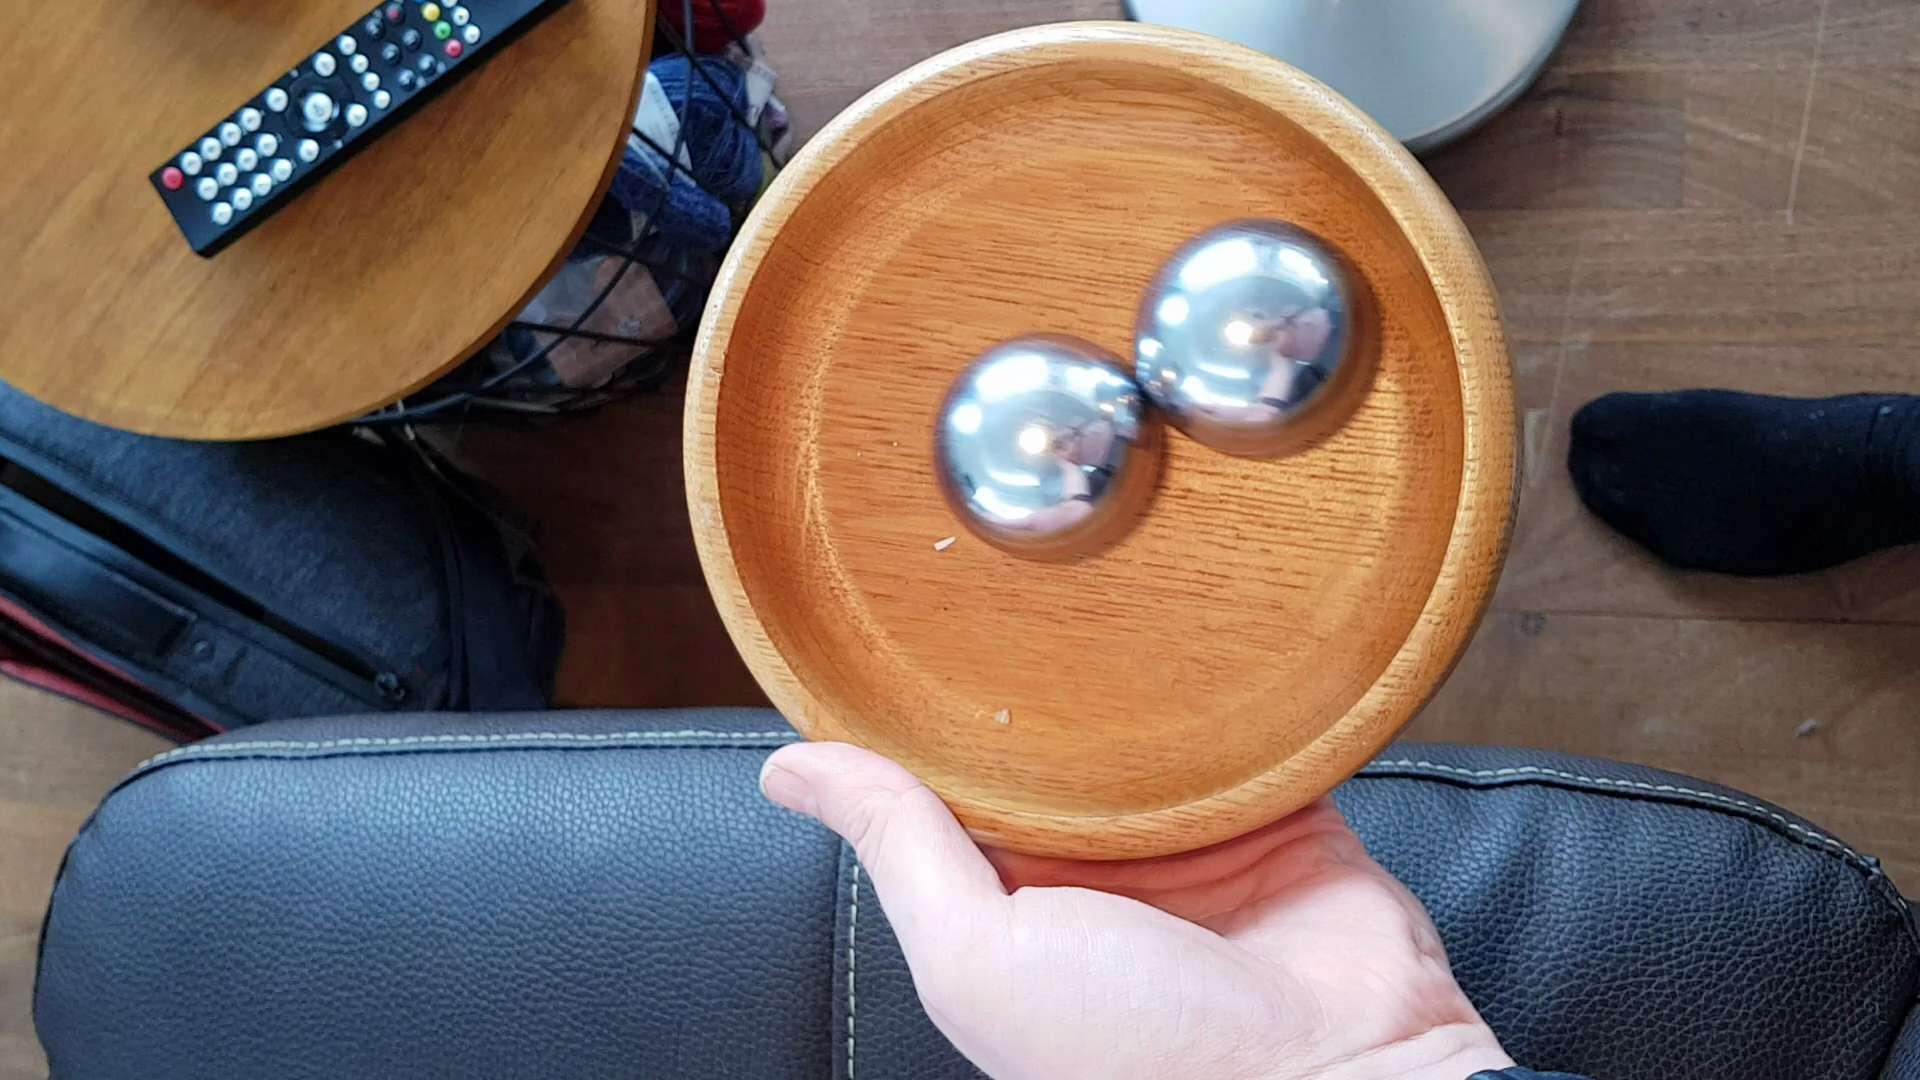sphere: (1130, 204, 1389, 454), (934, 334, 1156, 568)
